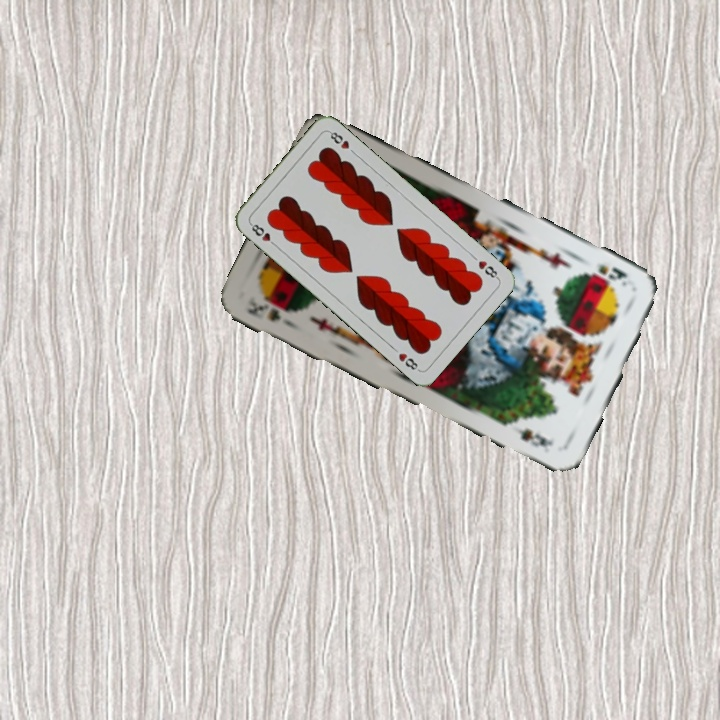H8: (246, 219, 280, 249), (474, 256, 501, 282)
SK: (242, 292, 297, 331), (593, 261, 630, 289)
